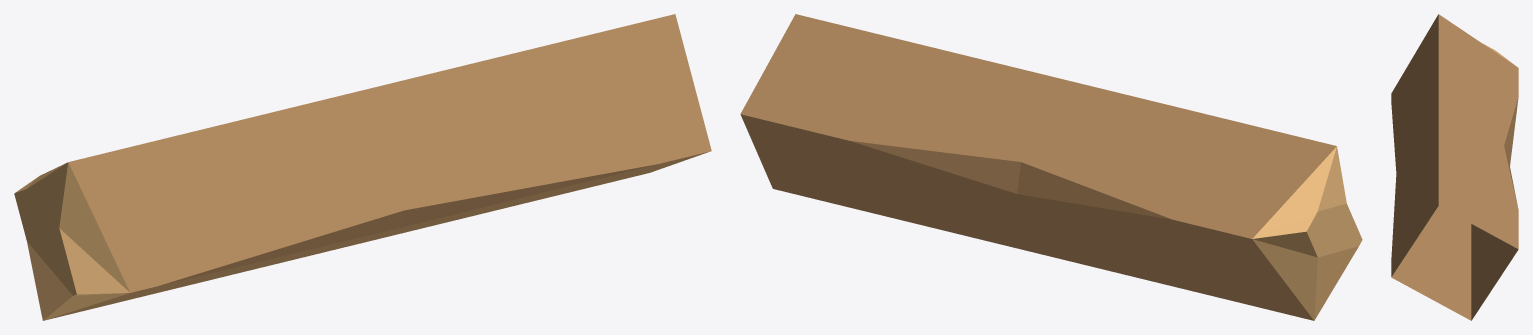
The model's file is SFV_Roof_Wall_Attachable.fbx.
The picture shows the model from 3 angles, left to right: view 1: azimuth 30°, elevation 25°; view 2: azimuth 150°, elevation 25°; view 3: azimuth 270°, elevation 25°; orthographic projection. The views are drawn at different scales.
Parts seen in each view (by area): view 1: SFV_Roof_Wall_Attachable; view 2: SFV_Roof_Wall_Attachable; view 3: SFV_Roof_Wall_Attachable.
Boxes of the visible parts, box(x1,y1,x2,y2) form: SFV_Roof_Wall_Attachable: box(14, 14, 711, 320); SFV_Roof_Wall_Attachable: box(740, 14, 1362, 320); SFV_Roof_Wall_Attachable: box(1391, 14, 1518, 320).
Size of the model in its own units: 223 by 61.37 by 61.61.
